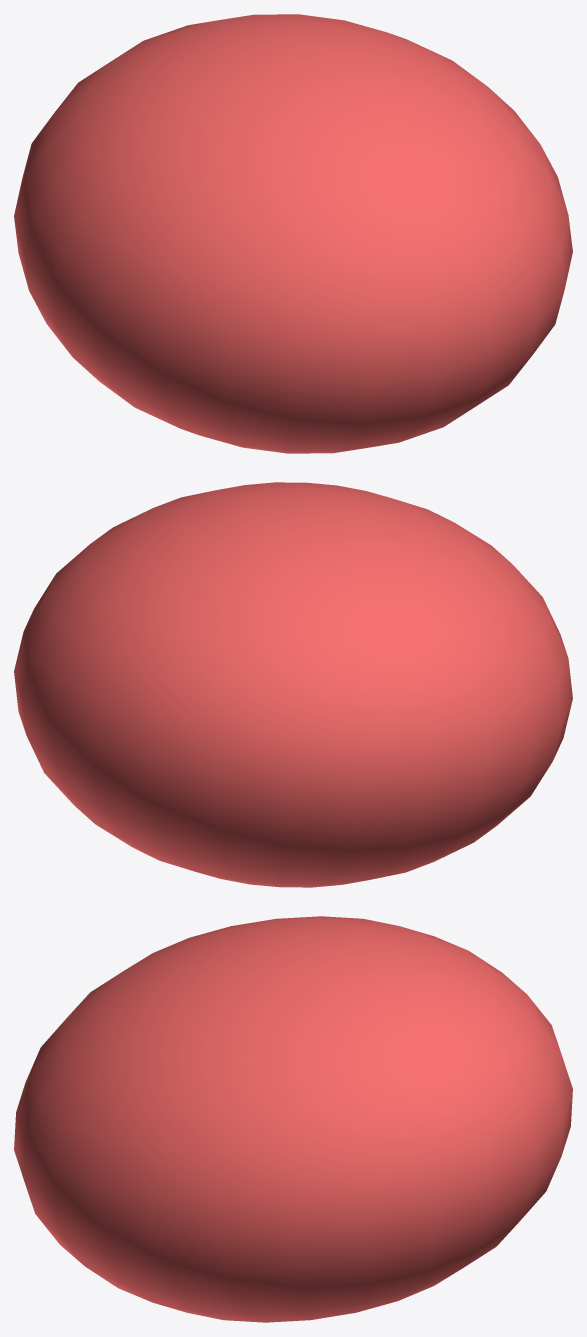
File: Detail_Mario_CapDome.fbx
3 views of the same model, one above another, from view 1: azimuth 30°, elevation 25°; view 2: azimuth 150°, elevation 25°; view 3: azimuth 270°, elevation 25° (orthographic). The views are drawn at different scales.
Parts seen in each view (by area): view 1: Detail_Mario_CapDome; view 2: Detail_Mario_CapDome; view 3: Detail_Mario_CapDome.
Part boxes in pixels (x1=…): Detail_Mario_CapDome: x1=14, y1=14, x2=572, y2=453; Detail_Mario_CapDome: x1=14, y1=482, x2=572, y2=887; Detail_Mario_CapDome: x1=14, y1=916, x2=572, y2=1322.
Bounding box in the file's own units: 0.488 × 0.3389 × 0.5083.
